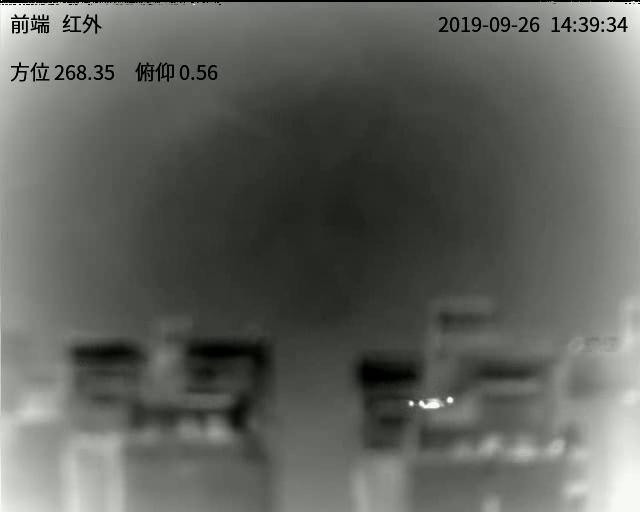DRONE: (408, 395, 455, 412)
